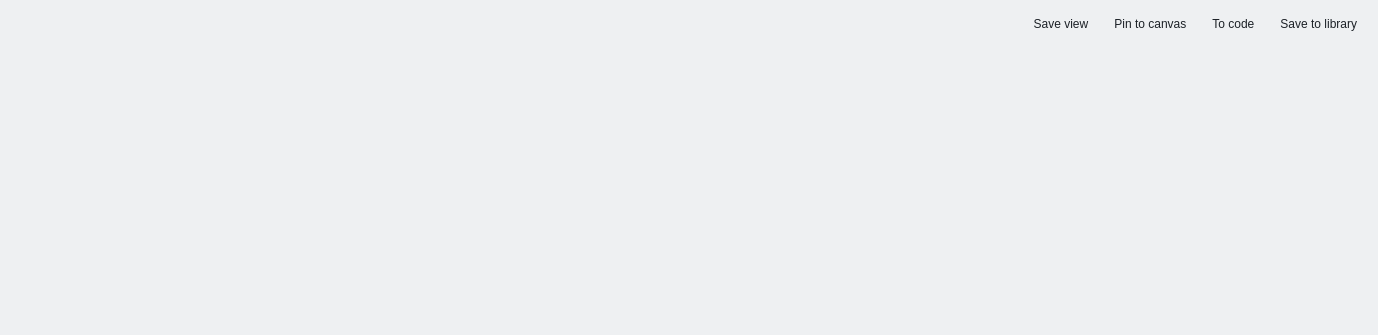
Test case: StepActions to code › keeps the drawer's edits from a second render until it closes
The image size is (1378, 335).
Click the button "To code" at [1233, 24], box [1203,12,1263,36]
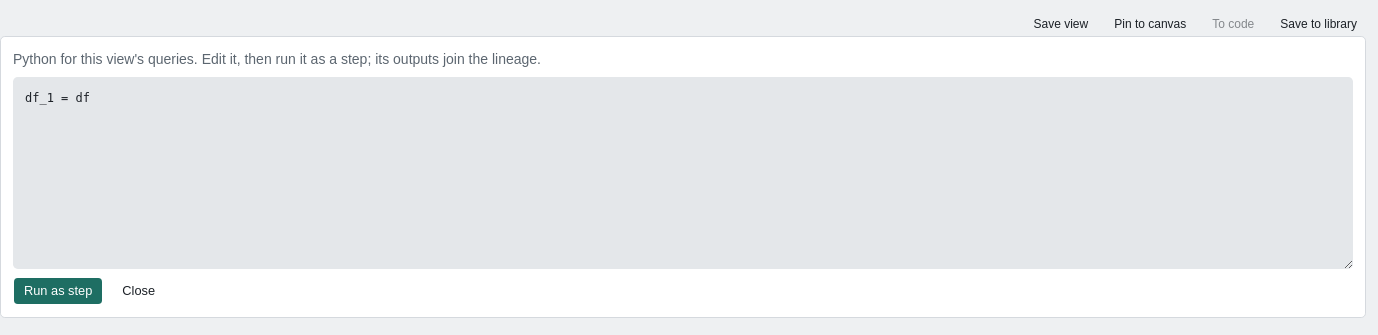
Now the text box named "Python" is shown, box [13,77,1353,269]
Now the button "To code" is disabled, box [1203,12,1263,36]
Click the button "Close" at [139, 291], box [111,277,166,305]
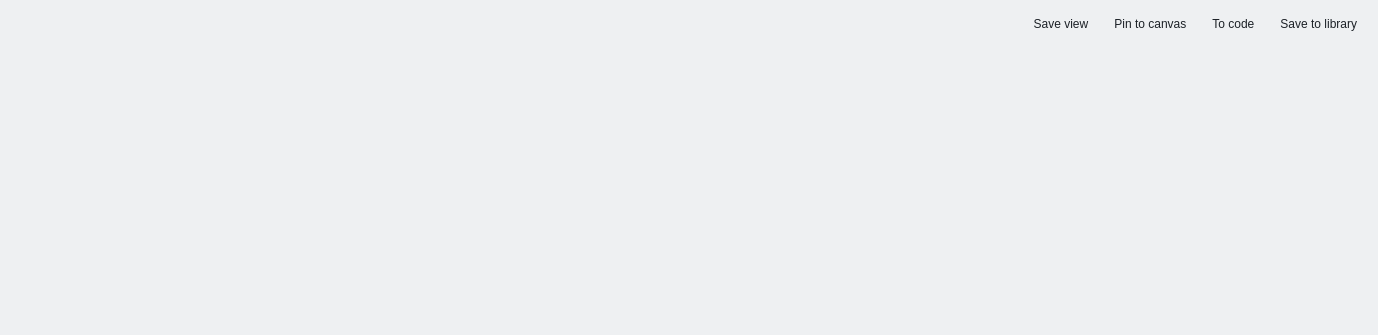
Now the button "To code" is enabled, box [1203,12,1263,36]
